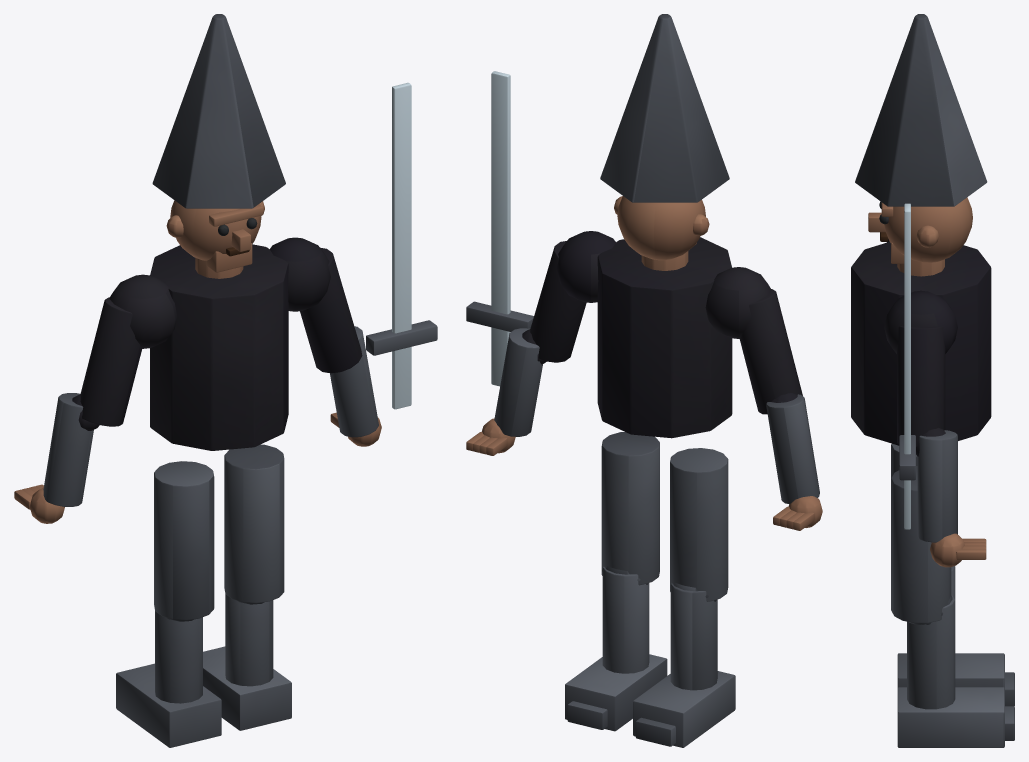
File: unit_veiled_first_heretic.fbx
The picture shows the model from 3 angles, left to right: view 1: azimuth 30°, elevation 25°; view 2: azimuth 150°, elevation 25°; view 3: azimuth 270°, elevation 25°; orthographic projection. The views are drawn at different scales.
Visible parts, largest first — view 1: unit_veiled_first_heretic; view 2: unit_veiled_first_heretic; view 3: unit_veiled_first_heretic.
Part boxes in pixels (<box>): unit_veiled_first_heretic: <box>14,14,437,747</box>; unit_veiled_first_heretic: <box>466,14,822,747</box>; unit_veiled_first_heretic: <box>851,14,1014,747</box>.
Bounding box in the file's own units: 1.3 × 2.31 × 0.4892.
